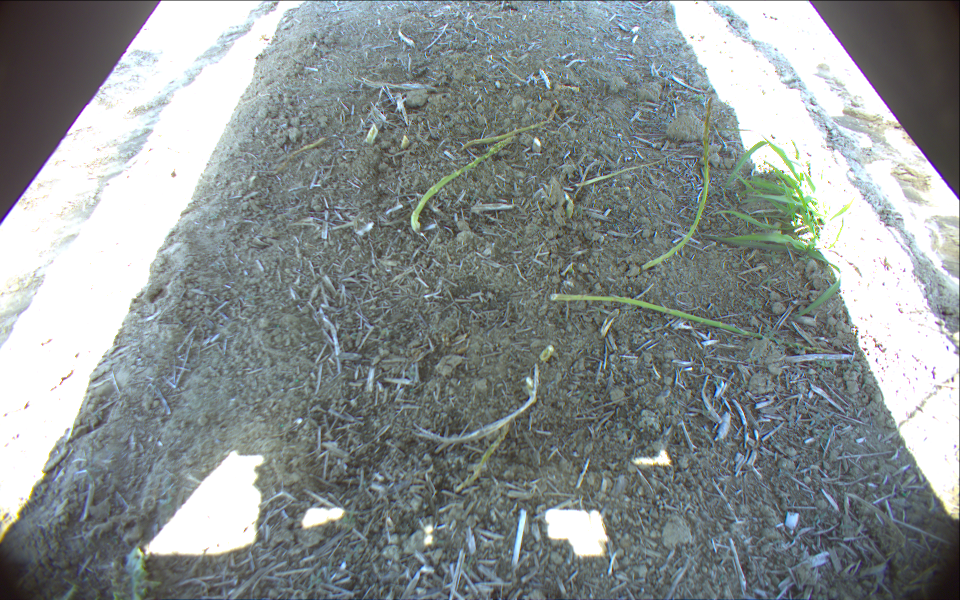aspa: (551, 293, 844, 352), (642, 97, 714, 270), (410, 137, 514, 232), (459, 101, 563, 150), (576, 149, 684, 187), (454, 421, 511, 492), (273, 136, 331, 174), (365, 124, 379, 142)
